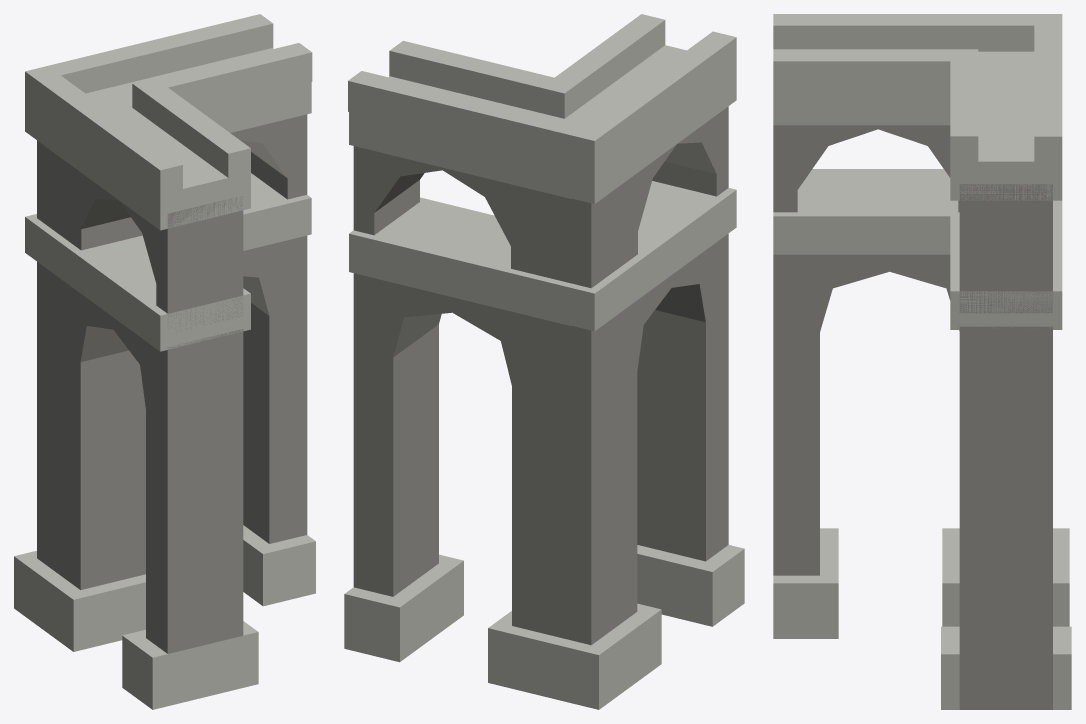
File: aquaduct_corner.fbx
The picture shows the model from 3 angles, left to right: view 1: azimuth 30°, elevation 25°; view 2: azimuth 150°, elevation 25°; view 3: azimuth 270°, elevation 25°; orthographic projection. The views are drawn at different scales.
Parts seen in each view (by area): view 1: polySurface278; view 2: polySurface278; view 3: polySurface278.
Part boxes in pixels (<box>): polySurface278: <box>14,14,315,709</box>; polySurface278: <box>344,14,744,709</box>; polySurface278: <box>773,14,1071,709</box>.
Bounding box in the file's own units: 64.27 × 136 × 64.
Materials: 1 (1 with a texture image).
